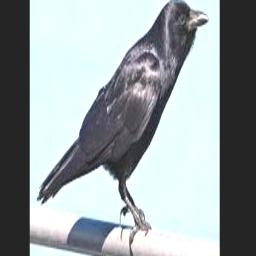Crow: (36, 0, 209, 242)
